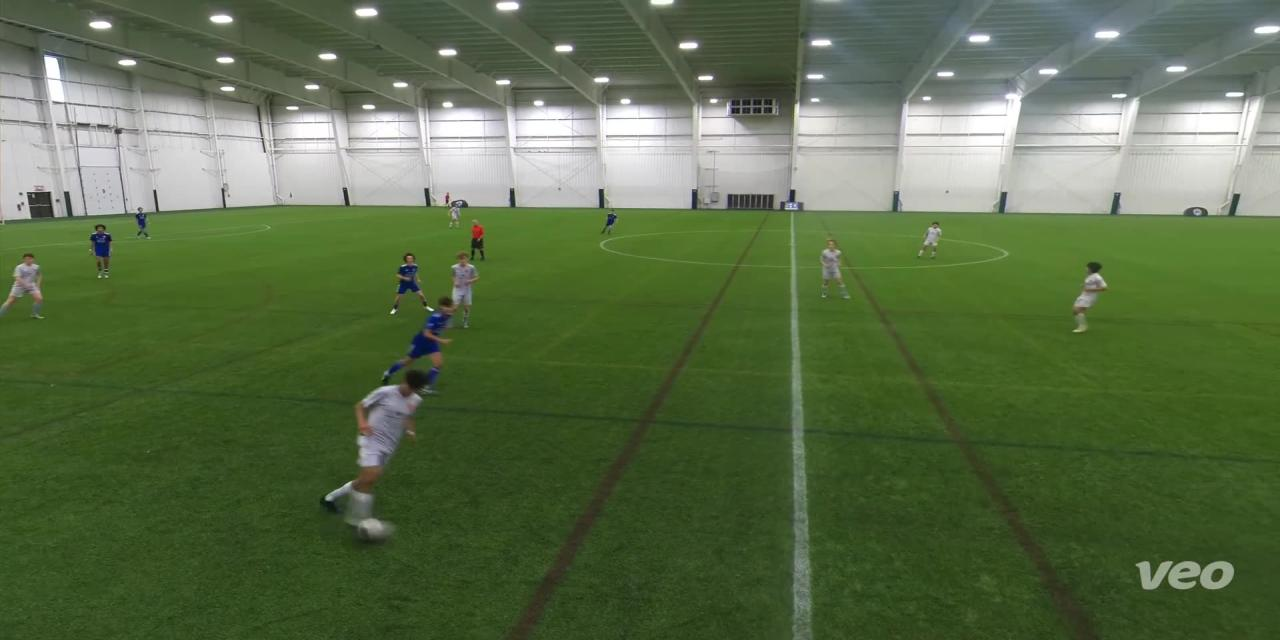sports ball: (353, 513, 393, 550)
